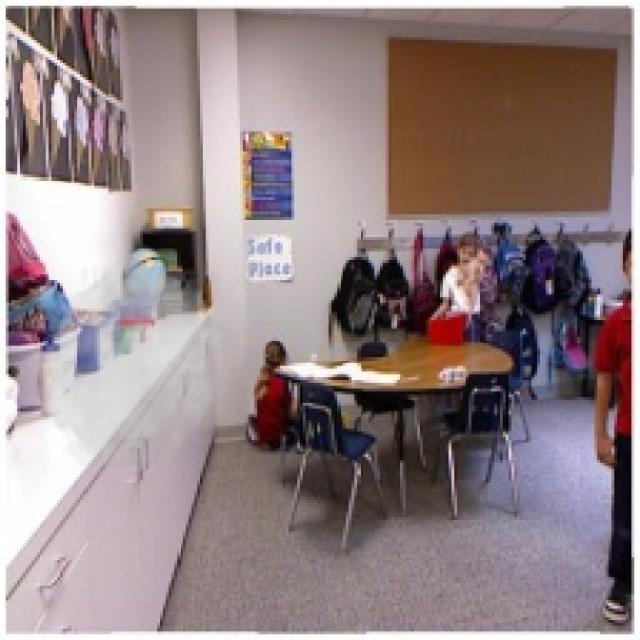Smoke: (32, 260, 232, 466)
